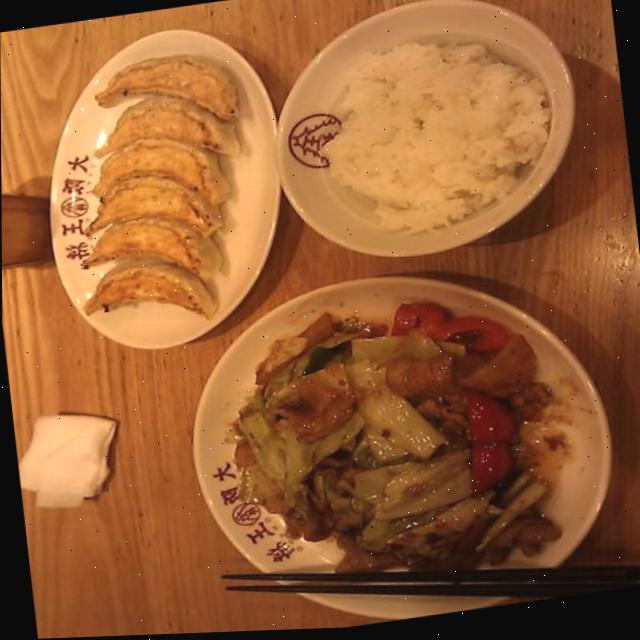带馅早点: (22, 11, 297, 370)
米饭主食: (252, 0, 589, 278)
